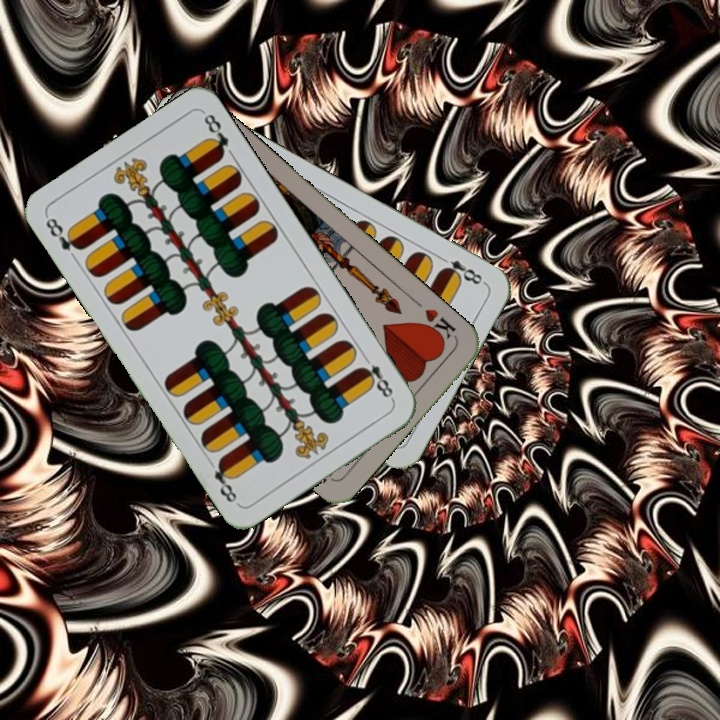E8: (355, 351, 397, 404), (434, 251, 488, 288), (41, 213, 86, 254)
HK: (417, 304, 459, 346)
